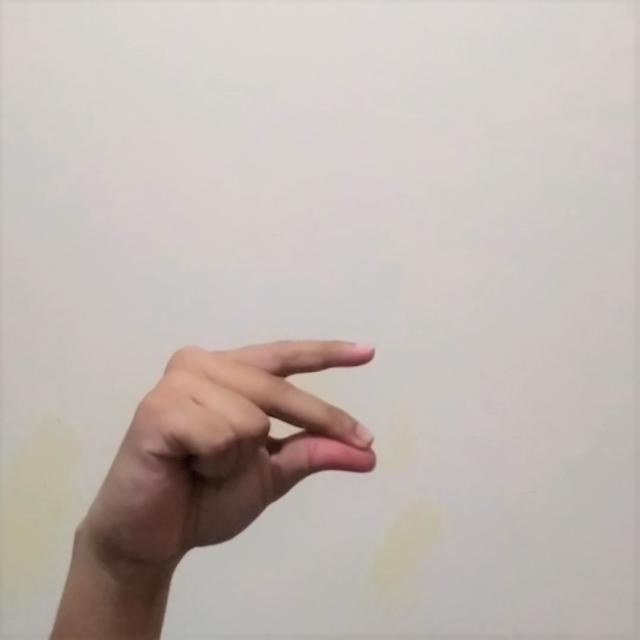R: (62, 326, 393, 572)
